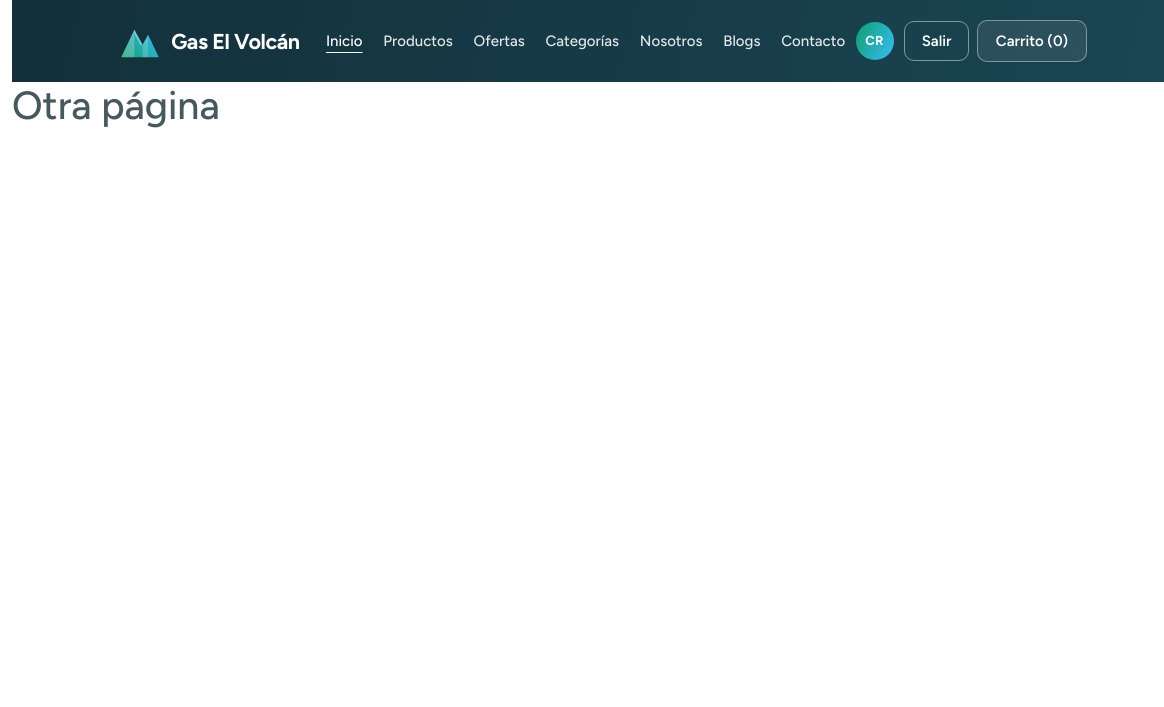
Test: Navbar › Salir cierra la sesión y vuelve a mostrar Ingresar
Note: 2 Actuar
Click the button "Salir" at (937, 41), box [904,21,969,61]
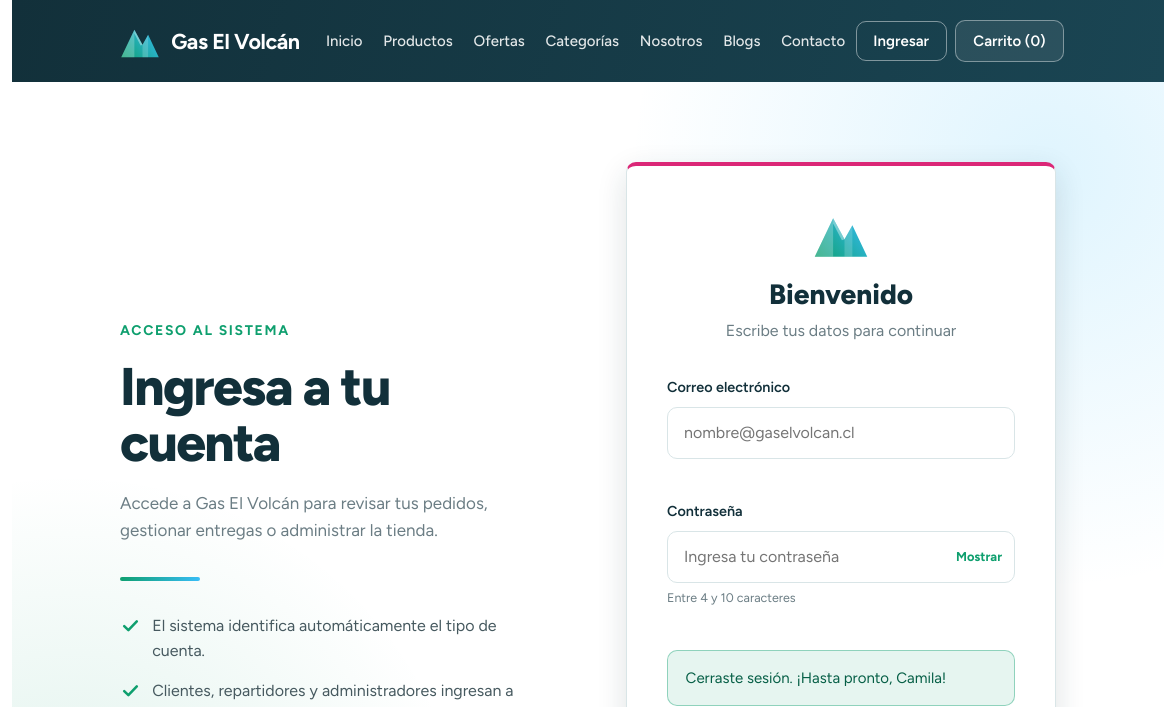
expect the link "Ingresar" is shown: met, box [856,21,947,61]
